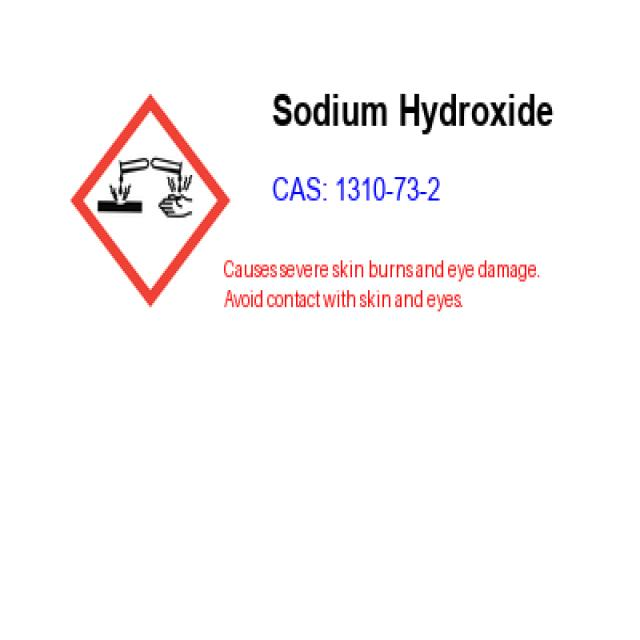cas number: (267, 165, 452, 216)
chemical name: (265, 78, 565, 132)
corrosive: (72, 94, 221, 320)
warning text: (219, 248, 550, 329)
